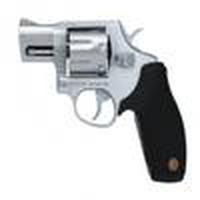gun: (16, 16, 191, 186)
